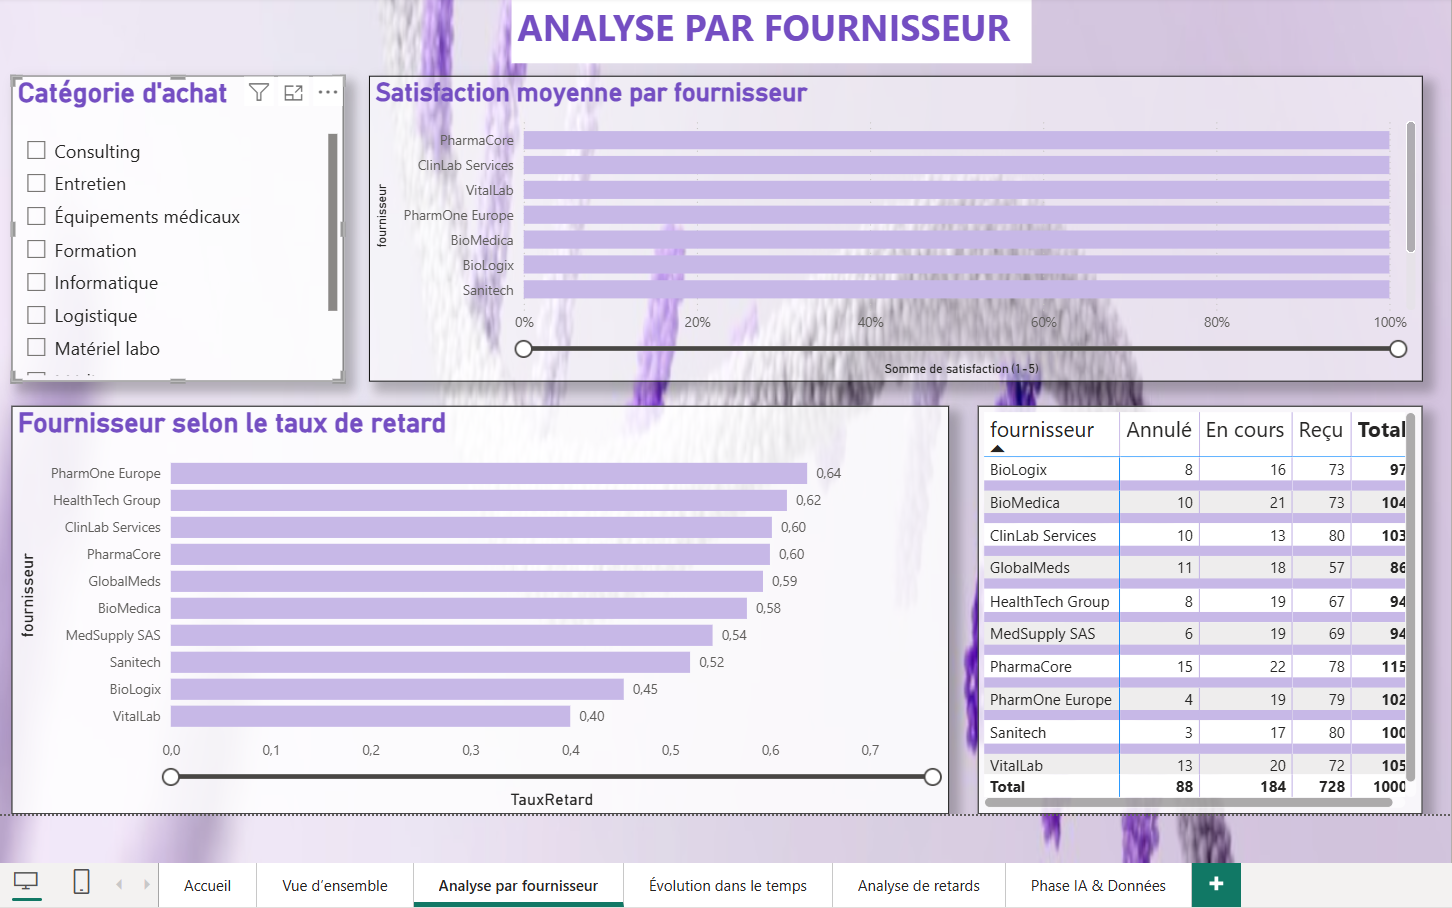

What the dashboard file says about the page in this screenshot:
{"tool":"powerbi","page":{"name":"Analyse par fournisseur","canvas":[1280,720],"ordinal":2},"visuals":[{"type":"clusteredBarChart","title":"Fournisseur selon le taux de retard","fields":{"Category":["procuresenseai_data_sanofi.fournisseur"],"Y":["procuresenseai_data_sanofi.TauxRetard"]},"box":[11,360.3,826.3,360.3],"z":0},{"type":"hundredPercentStackedBarChart","title":"Satisfaction moyenne par fournisseur","fields":{"Y":["Sum(procuresenseai_data_sanofi.satisfaction (1-5))"],"Category":["procuresenseai_data_sanofi.fournisseur"]},"box":[326.1,69.4,928.8,269.9],"z":1000},{"type":"slicer","title":"Catégorie d''achat","fields":{"Values":["procuresenseai_data_sanofi.catégorie_achat"]},"box":[11,69.4,293.1,269.9],"z":2000},{"type":"pivotTable","fields":{"Rows":["procuresenseai_data_sanofi.fournisseur"],"Columns":["procuresenseai_data_sanofi.statut"],"Values":["procuresenseai_data_sanofi.NbCommandes"]},"box":[862.7,360.3,392.2,360.3],"z":3000},{"type":"textbox","box":[451.7,0,458.3,58.4],"z":4000}]}

Visuals, with their boxes on the page's 1280x720 design canvas (x1, y1, x2, y2). These are canvas units, not pixel positions in the 1452x908 screenshot, which may show the page scaled, cropped or inside an application window:
"Fournisseur selon le taux de retard" clusteredBarChart: left=11, top=360, right=837, bottom=721
"Satisfaction moyenne par fournisseur" hundredPercentStackedBarChart: left=326, top=69, right=1255, bottom=339
"Catégorie d''achat" slicer: left=11, top=69, right=304, bottom=339
pivotTable - procuresenseai_data_sanofi.fournisseur x procuresenseai_data_sanofi.statut: left=863, top=360, right=1255, bottom=721
textbox: left=452, top=0, right=910, bottom=58
